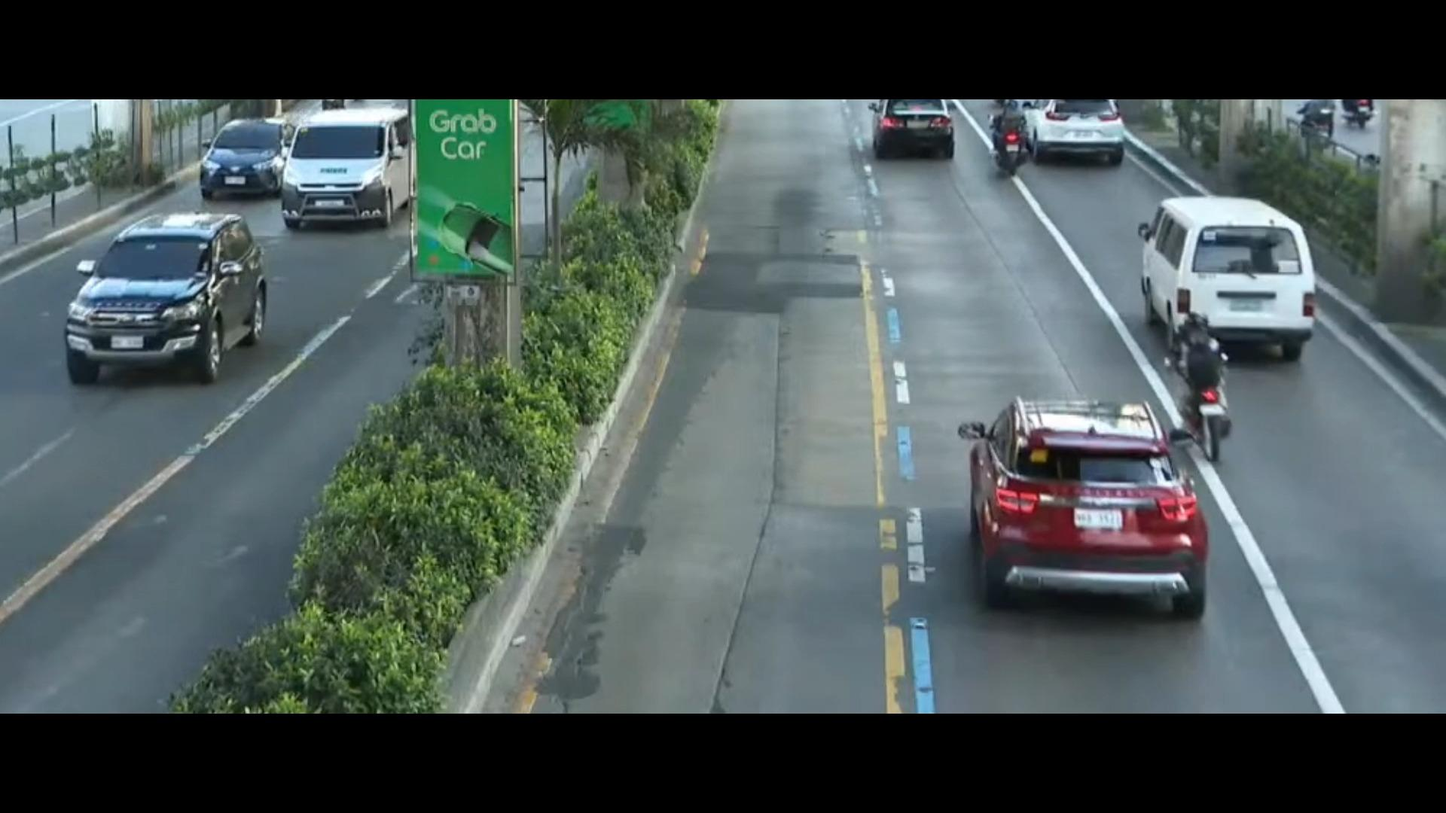Motorcycle: (1143, 305, 1244, 465), (962, 94, 1042, 175)
SUV: (915, 387, 1251, 637), (49, 194, 275, 411), (1028, 96, 1136, 170)
Sedan: (171, 102, 298, 208), (855, 95, 965, 160)
Van: (1109, 169, 1338, 351), (281, 108, 406, 238)
